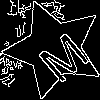M: (29, 23, 92, 85)
